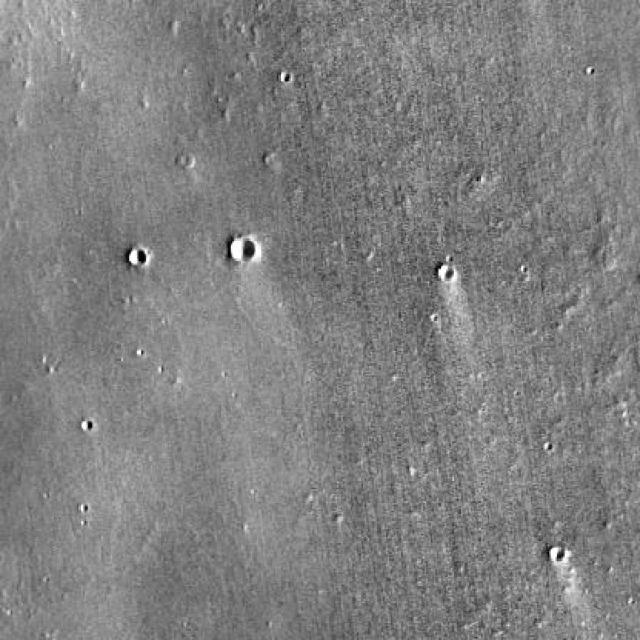crater: (232, 236, 257, 259), (128, 248, 146, 266)
